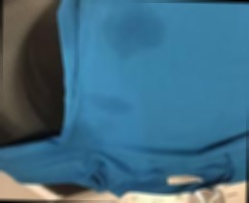oil: (99, 9, 166, 55), (82, 84, 132, 125)
